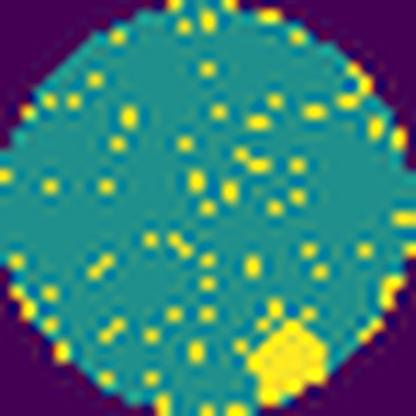Edge-Loc: (240, 314, 330, 408)
